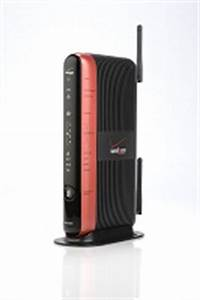Verizon Router: (50, 25, 154, 247)
